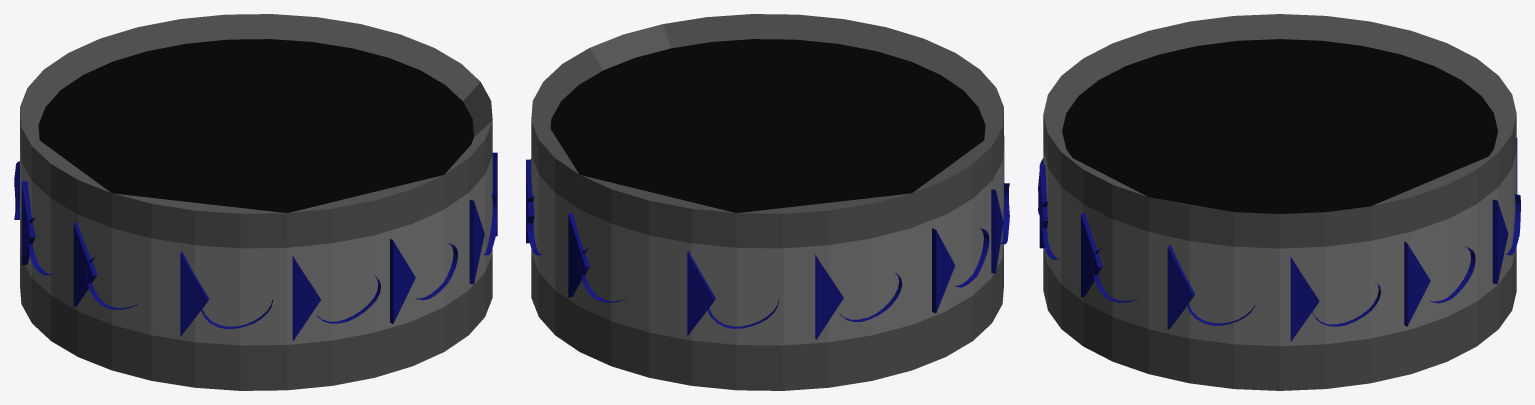
Rendered from tunacan.fbx.
3 views of the same model, side by side, from view 1: azimuth 30°, elevation 25°; view 2: azimuth 150°, elevation 25°; view 3: azimuth 270°, elevation 25° (orthographic).
Parts seen in each view (by area): view 1: Cylinder, BezierCircle.012, BezierCircle.011, BezierCircle.013, BezierCircle.003, BezierCircle.010, BezierCircle.002; view 2: Cylinder, BezierCircle.004, BezierCircle.005, BezierCircle.002, BezierCircle.006, BezierCircle.003, BezierCircle.007; view 3: Cylinder, BezierCircle.007, BezierCircle.008, BezierCircle.009, BezierCircle.006, BezierCircle.010, BezierCircle.011.
Boxes of the visible parts, x1,y1,x2,y2 form: Cylinder: [20, 14, 492, 390]; BezierCircle.012: [292, 256, 380, 340]; BezierCircle.011: [390, 239, 457, 323]; BezierCircle.013: [180, 251, 272, 336]; BezierCircle.003: [73, 222, 138, 309]; BezierCircle.010: [469, 194, 497, 284]; BezierCircle.002: [21, 180, 54, 275]; Cylinder: [531, 14, 1003, 390]; BezierCircle.004: [815, 255, 902, 339]; BezierCircle.005: [687, 251, 778, 335]; BezierCircle.002: [932, 228, 989, 313]; BezierCircle.006: [568, 213, 626, 302]; BezierCircle.003: [991, 183, 1009, 273]; BezierCircle.007: [526, 159, 542, 255]; Cylinder: [1043, 14, 1516, 390]; BezierCircle.007: [1404, 241, 1475, 326]; BezierCircle.008: [1290, 256, 1380, 341]; BezierCircle.009: [1167, 245, 1255, 329]; BezierCircle.006: [1492, 194, 1520, 284]; BezierCircle.010: [1081, 213, 1138, 302]; BezierCircle.011: [1039, 164, 1059, 259].
Size of the model in its own units: 204 by 82.5 by 204.
